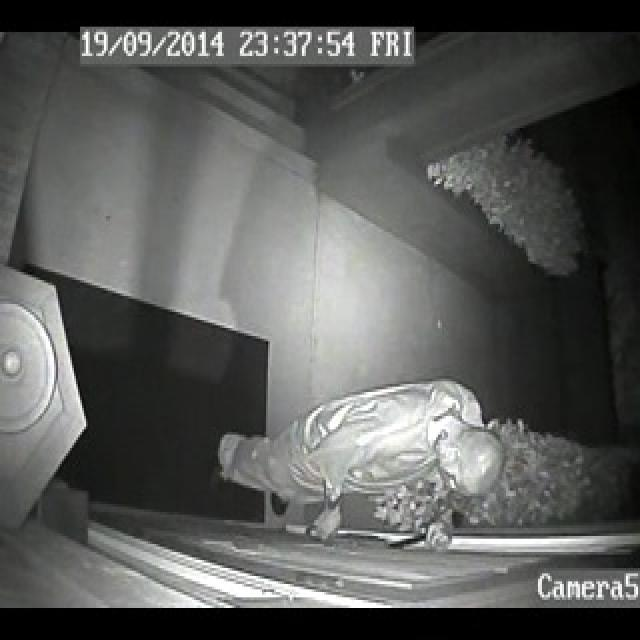thief: (215, 375, 511, 535)
